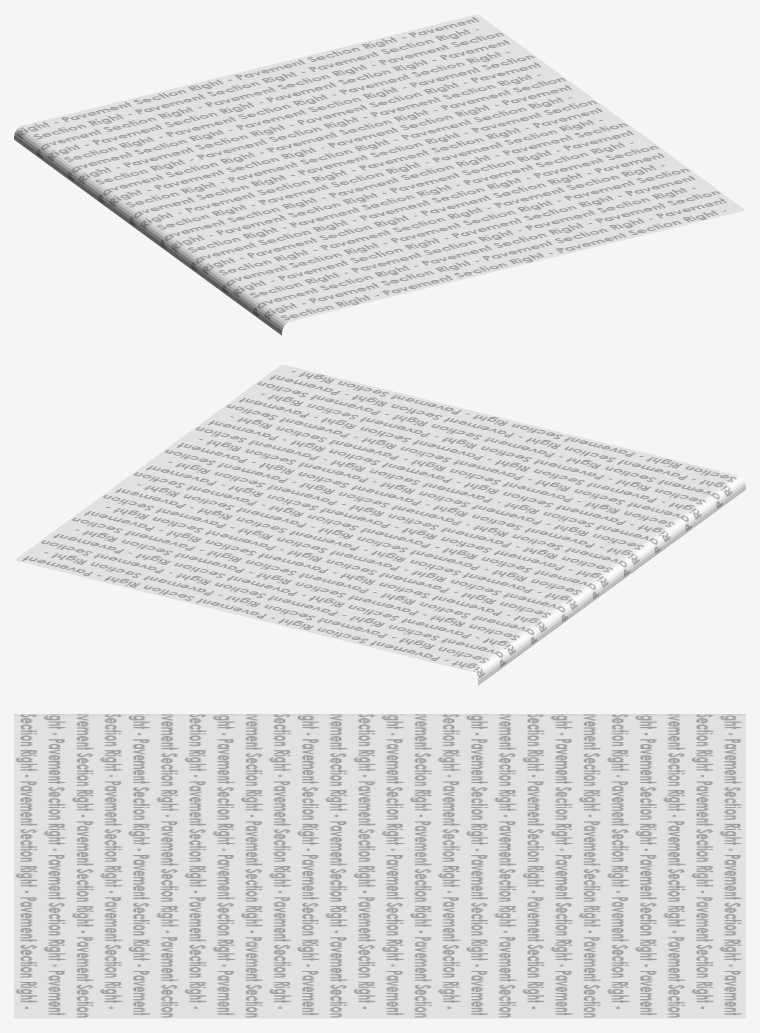
The model's file is Curb_Right.FBX.
The picture shows the model from 3 angles, top to bottom: view 1: azimuth 30°, elevation 25°; view 2: azimuth 150°, elevation 25°; view 3: azimuth 270°, elevation 25°; orthographic projection. The views are drawn at different scales.
Parts seen in each view (by area): view 1: Curb_Right; view 2: Curb_Right; view 3: Curb_Right.
Boxes of the visible parts, left/top/right/bottom form: Curb_Right: left=14, top=14, right=745, bottom=335; Curb_Right: left=14, top=364, right=745, bottom=685; Curb_Right: left=14, top=714, right=745, bottom=1018.
Size of the model in its own units: 400 by 10 by 400.
Materials: 1 (1 with a texture image).
